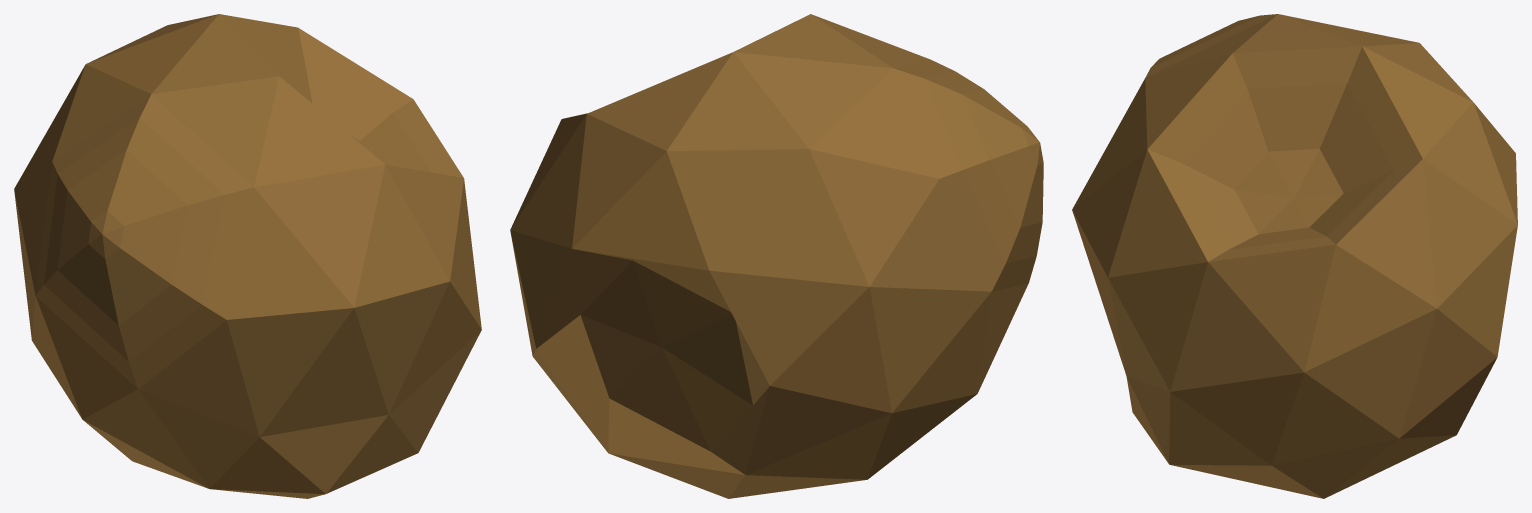
File: asteroid2.fbx
3 renders of one model, left to right at view 1: azimuth 30°, elevation 25°; view 2: azimuth 150°, elevation 25°; view 3: azimuth 270°, elevation 25°, orthographic. The views are drawn at different scales.
Parts seen in each view (by area): view 1: Icosphere; view 2: Icosphere; view 3: Icosphere.
Part boxes in pixels (<box>): Icosphere: <box>14,14,481,498</box>; Icosphere: <box>510,14,1043,498</box>; Icosphere: <box>1072,14,1517,498</box>.
Size of the model in its own units: 1184 by 1133 by 1108.
